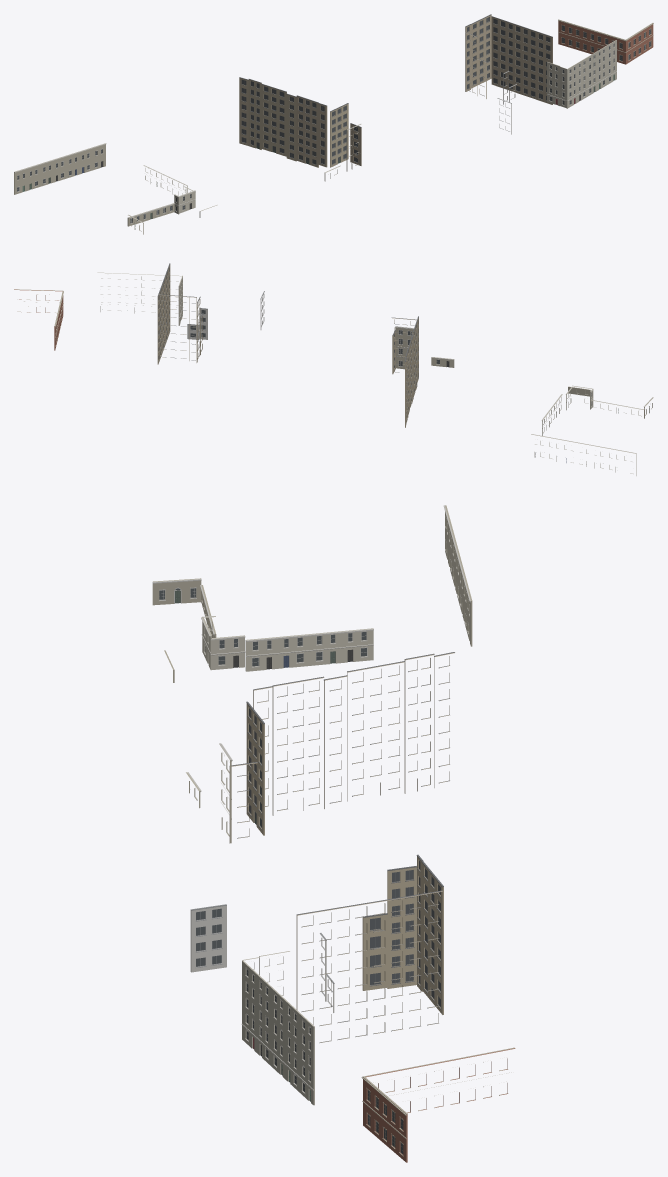
3 renders of one model, top to bottom at view 1: azimuth 30°, elevation 25°; view 2: azimuth 150°, elevation 25°; view 3: azimuth 270°, elevation 25°, orthographic. The views are drawn at different scales.
Visible parts, largest first — view 1: f:way/127718988, f:way/127718948, f:way/159704087, f:way/136293817, f:way/172029700, f:way/172029718; view 2: f:way/127718988, f:way/134388283, f:way/136293790, f:way/127718948, f:way/136293817, f:way/172029700, f:way/159704087; view 3: f:way/127718988, f:way/127718948, f:way/172029700, f:way/136293817, f:way/134388283, f:way/172029718, f:way/159704087.
Part boxes in pixels (box(x1,y1,x2,y2)): f:way/127718988: box(239, 14, 552, 167); f:way/127718948: box(547, 40, 616, 108); f:way/159704087: box(14, 143, 106, 194); f:way/136293817: box(558, 19, 653, 64); f:way/172029700: box(143, 165, 195, 214); f:way/172029718: box(127, 203, 174, 234); f:way/127718988: box(157, 263, 418, 427); f:way/134388283: box(187, 291, 264, 339); f:way/136293790: box(395, 326, 413, 369); f:way/127718948: box(97, 272, 183, 325); f:way/136293817: box(14, 289, 63, 350); f:way/172029700: box(541, 385, 593, 435); f:way/159704087: box(531, 434, 636, 475); f:way/127718988: box(229, 652, 454, 1042); f:way/127718948: box(241, 951, 314, 1105); f:way/172029700: box(201, 616, 373, 671); f:way/136293817: box(361, 1047, 515, 1162); f:way/134388283: box(190, 904, 334, 1012); f:way/172029718: box(152, 578, 216, 637); f:way/159704087: box(443, 505, 472, 646).
Bounding box in the file's own units: 240 × 25.82 × 59.94.
